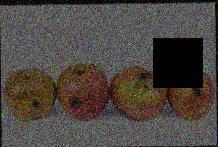rotten apple: (108, 65, 167, 122), (54, 62, 109, 122), (1, 65, 55, 122), (166, 64, 216, 123)
